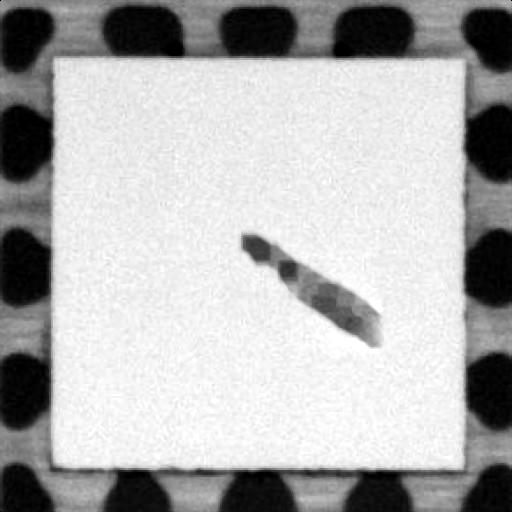DIE_INK: (232, 226, 386, 358)
